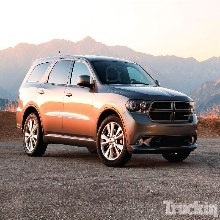no damage: (16, 55, 199, 165)
